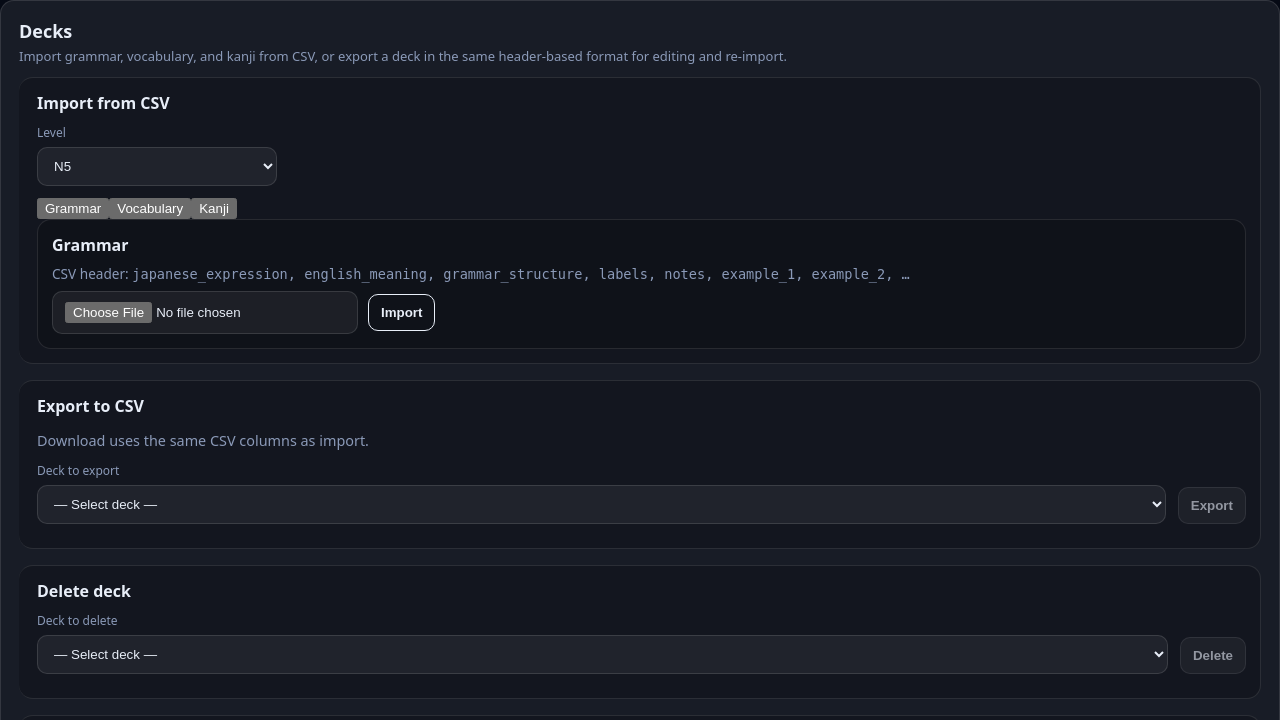
it: ImportTab › disables Export until a deck is selected
Expected: the button named "export selected deck as csv" is disabled, [1178,487,1246,524]
Select "Deck One" in the dropdown labelled "Deck to export" at (601, 505), box [37,485,1166,524]
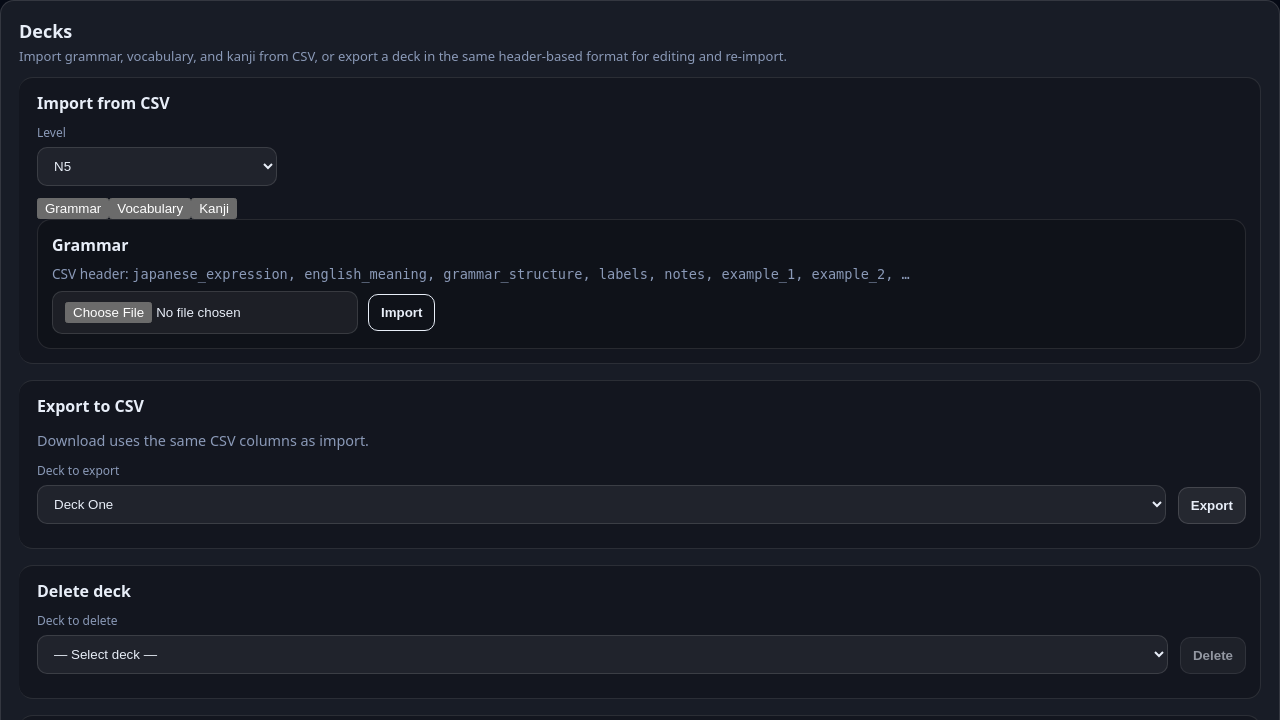
Expected: the button named "export selected deck as csv" is enabled, [1178,487,1246,524]
